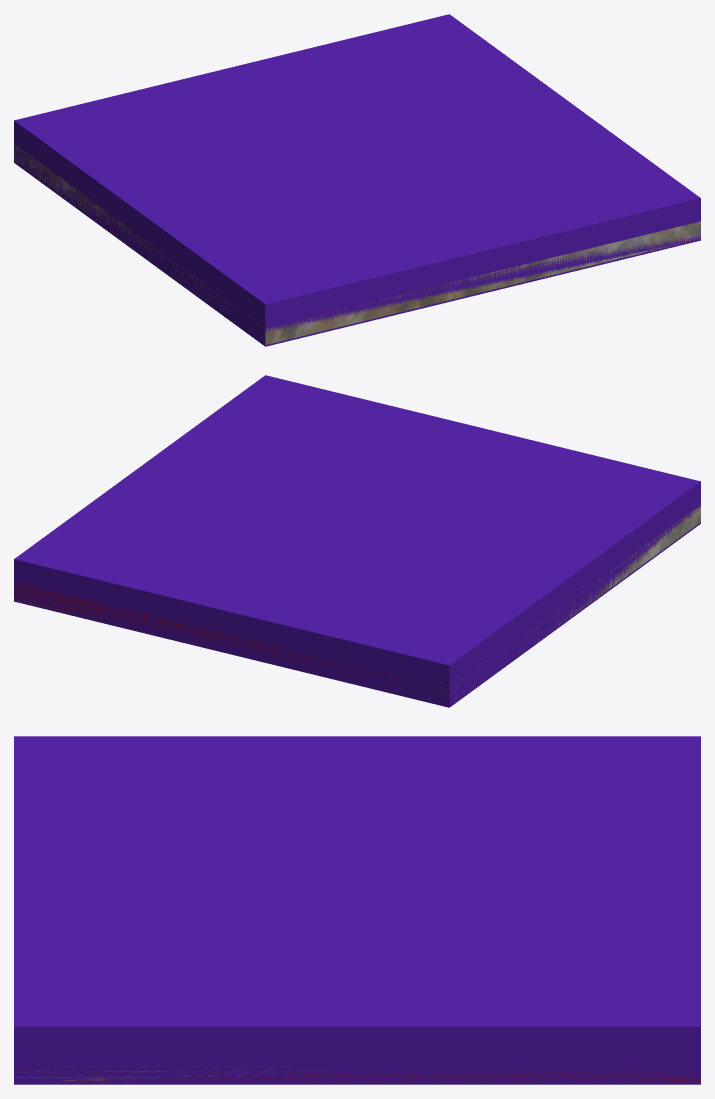
File: SciFi_ceiling_tile_skylight.DAE
The picture shows the model from 3 angles, top to bottom: view 1: azimuth 30°, elevation 25°; view 2: azimuth 150°, elevation 25°; view 3: azimuth 270°, elevation 25°; orthographic projection. The views are drawn at different scales.
Visible parts, largest first — view 1: bounds, LP_ceiling_tile_skylight; view 2: bounds, colbox-01, LP_ceiling_tile_skylight; view 3: bounds, colbox-01.
Part boxes in pixels (x1,y1,x2,y2): bounds: [14, 14, 700, 346]; LP_ceiling_tile_skylight: [14, 145, 700, 344]; bounds: [14, 375, 700, 707]; colbox-01: [14, 511, 694, 704]; LP_ceiling_tile_skylight: [14, 505, 700, 699]; bounds: [14, 736, 700, 1084]; colbox-01: [15, 1069, 700, 1082].
Size of the model in its own units: 700 by 700 by 65.
